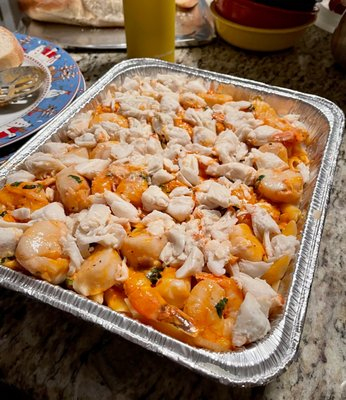pizza: (122, 0, 177, 63)
sushi: (209, 0, 319, 52)
